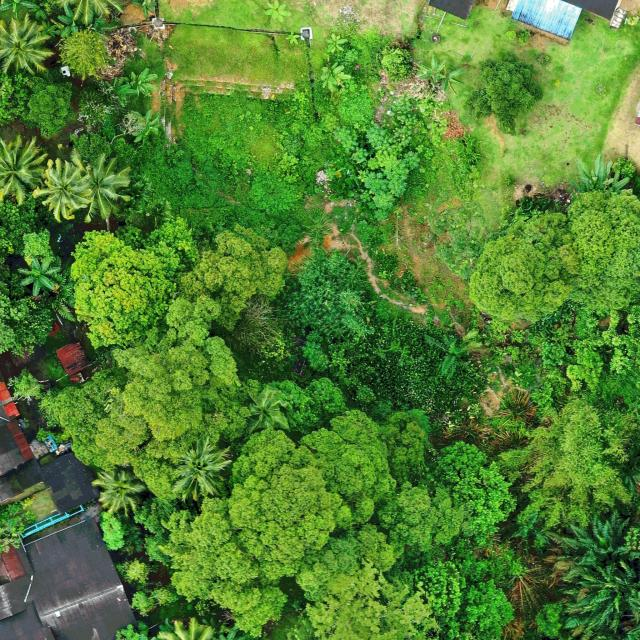0: (541, 499, 640, 582), (556, 567, 640, 640), (167, 433, 233, 502), (72, 151, 131, 223), (31, 160, 90, 223), (0, 12, 54, 78), (0, 132, 48, 205), (92, 463, 148, 520)
banana_tree2: (570, 154, 630, 193), (57, 2, 106, 38), (18, 256, 60, 297), (106, 76, 139, 108), (131, 110, 162, 144), (320, 61, 352, 93), (129, 68, 160, 98), (437, 64, 464, 96), (417, 54, 447, 81), (264, 0, 292, 23), (19, 0, 48, 20), (325, 33, 348, 53)
tree: (70, 218, 197, 348), (469, 194, 580, 326), (176, 224, 288, 330), (566, 188, 640, 312), (463, 52, 545, 136), (16, 64, 75, 141), (57, 25, 116, 81), (6, 365, 50, 405), (379, 44, 413, 83)
